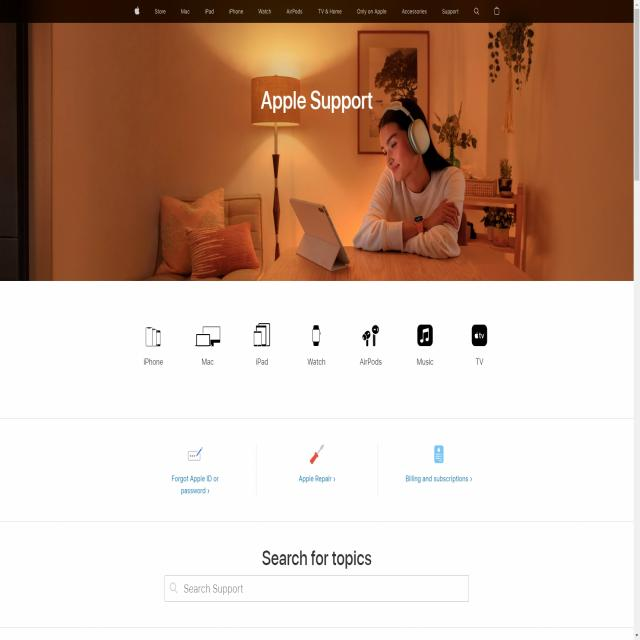menu-bar: (151, 2, 504, 20)
search: (154, 544, 481, 606)
